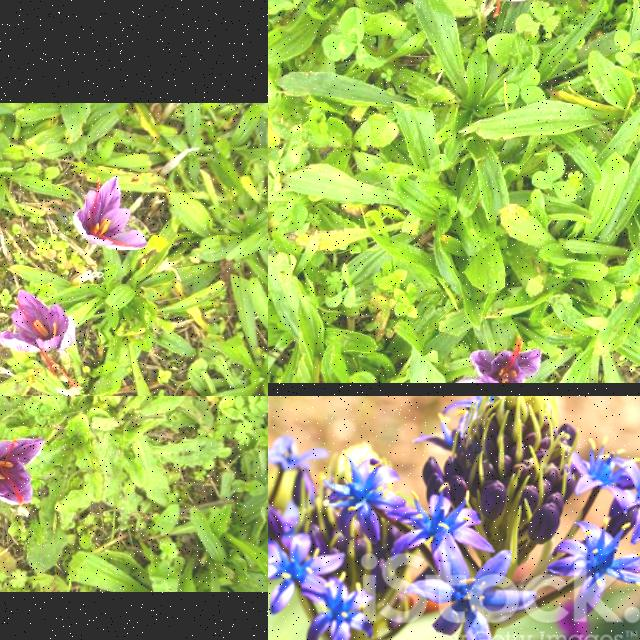flower: (0, 289, 78, 388), (72, 174, 148, 250), (456, 341, 542, 384), (0, 437, 47, 506), (462, 0, 539, 17)
